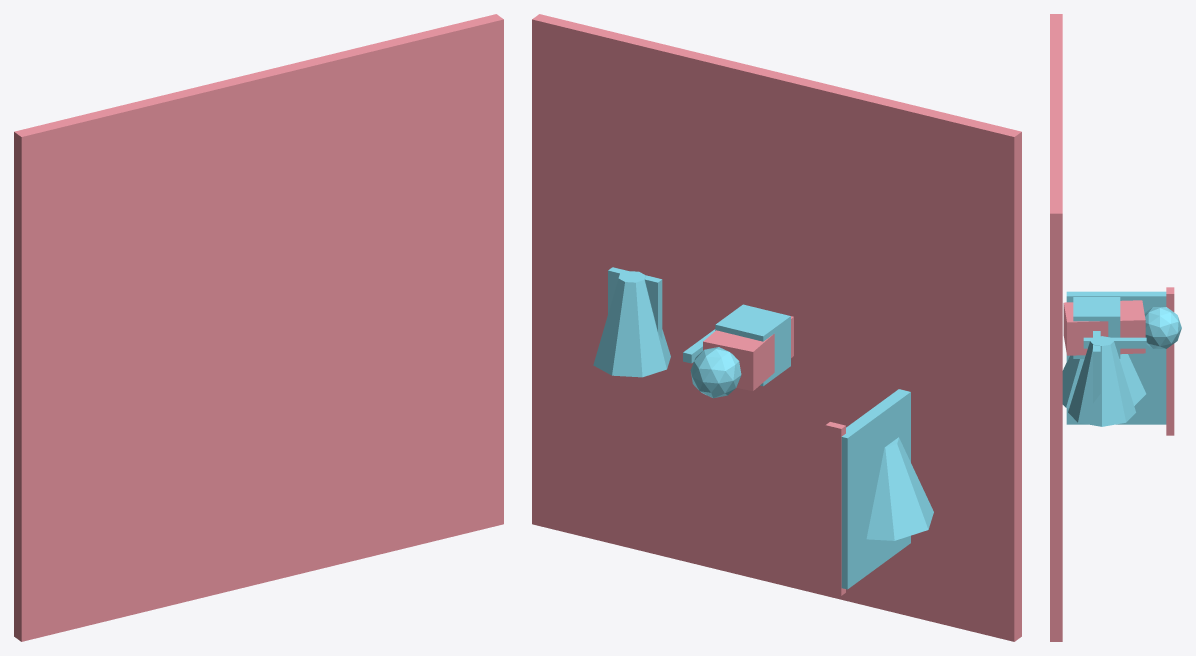
Rendered from blast-maze-kit.glb.
3 renders of one model, left to right at view 1: azimuth 30°, elevation 25°; view 2: azimuth 150°, elevation 25°; view 3: azimuth 270°, elevation 25°, orthographic. The views are drawn at different scales.
Parts seen in each view (by area): view 1: ENVIRONMENT_GROUND; view 2: ENVIRONMENT_GROUND, PROFILE_ENVIRONMENT_DETAIL, OBSTACLE, ENVIRONMENT_LANDMARK, PROFILE_ENVIRONMENT_TRIM, PROFILE_PLAYER_DETAIL, PLAYER_BODY, PLAYER_HEAD, PROFILE_OBSTACLE_DETAIL; view 3: ENVIRONMENT_GROUND, OBSTACLE, PROFILE_ENVIRONMENT_DETAIL, PLAYER_BODY, PROFILE_PLAYER_DETAIL, ENVIRONMENT_LANDMARK, PLAYER_HEAD, PROFILE_ENVIRONMENT_TRIM, PLAYER_TOOL, PROFILE_OBSTACLE_DETAIL.
Part boxes in pixels (x1=…): ENVIRONMENT_GROUND: x1=14, y1=14, x2=503, y2=641; ENVIRONMENT_GROUND: x1=532, y1=14, x2=1021, y2=641; PROFILE_ENVIRONMENT_DETAIL: x1=841, y1=389, x2=910, y2=589; OBSTACLE: x1=593, y1=271, x2=670, y2=377; ENVIRONMENT_LANDMARK: x1=866, y1=437, x2=933, y2=540; PROFILE_ENVIRONMENT_TRIM: x1=825, y1=422, x2=845, y2=595; PROFILE_PLAYER_DETAIL: x1=715, y1=304, x2=790, y2=386; PLAYER_BODY: x1=703, y1=316, x2=793, y2=390; PLAYER_HEAD: x1=690, y1=347, x2=741, y2=398; PROFILE_OBSTACLE_DETAIL: x1=608, y1=267, x2=662, y2=339; ENVIRONMENT_GROUND: x1=1050, y1=14, x2=1062, y2=641; OBSTACLE: x1=1068, y1=336, x2=1135, y2=426; PROFILE_ENVIRONMENT_DETAIL: x1=1066, y1=291, x2=1166, y2=424; PLAYER_BODY: x1=1063, y1=300, x2=1145, y2=355; PROFILE_PLAYER_DETAIL: x1=1073, y1=297, x2=1120, y2=358; ENVIRONMENT_LANDMARK: x1=1062, y1=354, x2=1146, y2=408; PLAYER_HEAD: x1=1144, y1=307, x2=1181, y2=348; PROFILE_ENVIRONMENT_TRIM: x1=1166, y1=287, x2=1174, y2=435; PLAYER_TOOL: x1=1083, y1=337, x2=1146, y2=348; PROFILE_OBSTACLE_DETAIL: x1=1093, y1=331, x2=1100, y2=402.
Size of what is drawn, in the model's own units: 9 by 9 by 2.51.
